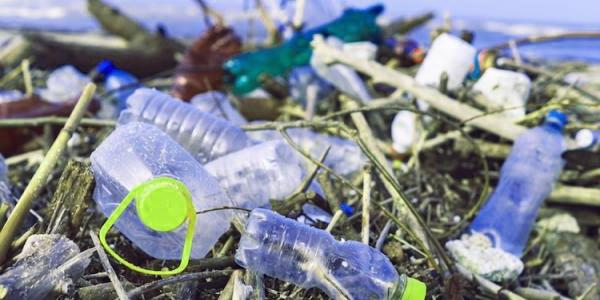Plastic: (83, 107, 230, 269), (234, 202, 430, 300), (471, 106, 567, 254), (124, 83, 245, 164), (198, 142, 298, 220)
